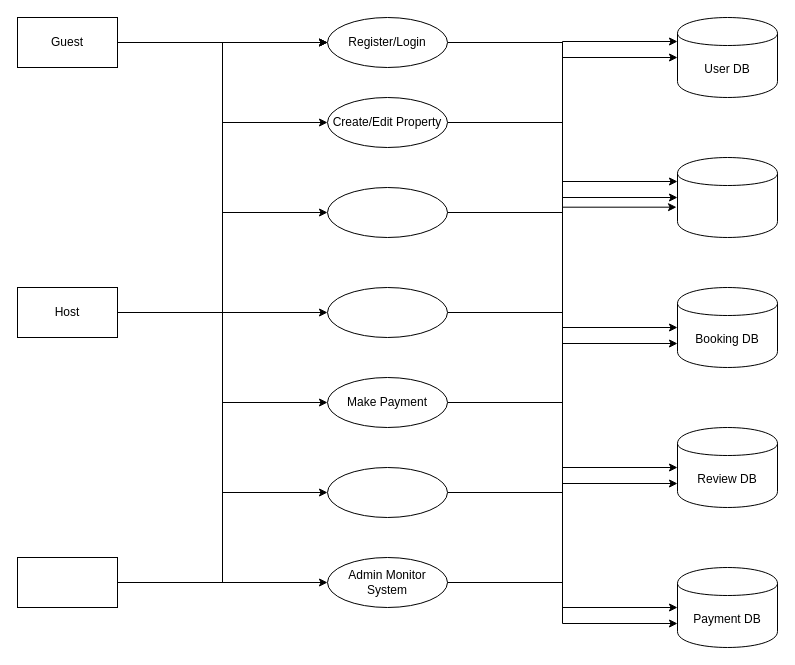
This 795x665 diagram has some shape labels left out. The shapes that lost their labels are listed below. From the top down, each one's centre as x and y in pixels, then its label:
At point (387, 212): "Search Listings".
At point (727, 197): "Property DB".
At point (387, 312): "Create Booking".
At point (387, 492): "Leave Review".
At point (67, 582): "Admin".
